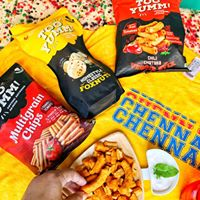plastic: (1, 63, 85, 170), (36, 11, 124, 92), (117, 1, 180, 76)
tooyumm: (41, 14, 74, 52), (1, 81, 23, 113), (130, 1, 172, 15)
